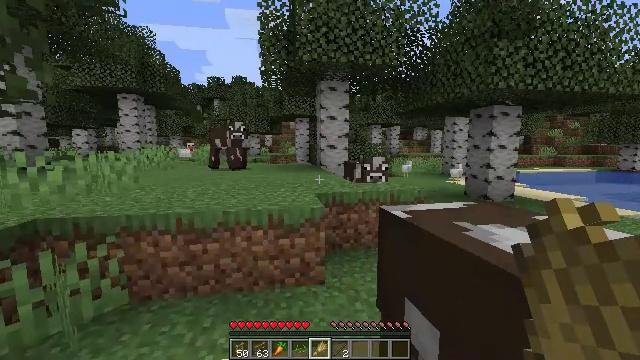chicken: (450, 162, 463, 185), (179, 142, 194, 160), (401, 160, 414, 178)
cow: (210, 122, 247, 170), (343, 152, 390, 183)
